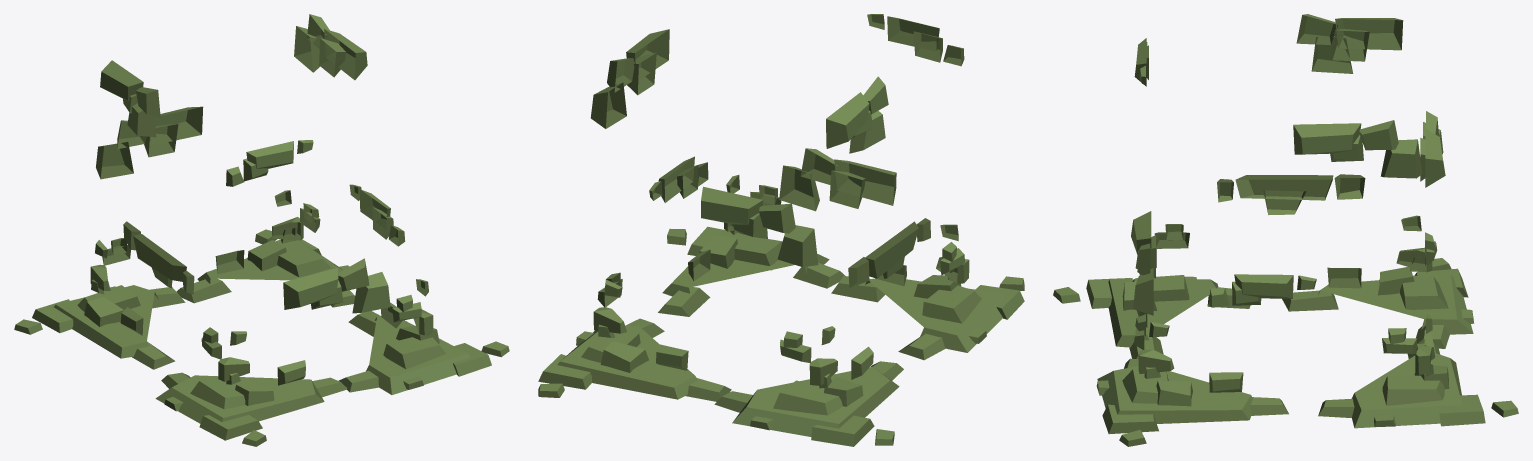
File: SA_Bld_WarehouseOld_Growth_01.gltf
3 views of the same model, side by side, from view 1: azimuth 30°, elevation 25°; view 2: azimuth 150°, elevation 25°; view 3: azimuth 270°, elevation 25° (orthographic). The views are drawn at different scales.
Visible parts, largest first — view 1: SA_Bld_WarehouseOld_Growth_01; view 2: SA_Bld_WarehouseOld_Growth_01; view 3: SA_Bld_WarehouseOld_Growth_01.
Boxes of the visible parts, <box> form: SA_Bld_WarehouseOld_Growth_01: <box>14,14,509,446</box>; SA_Bld_WarehouseOld_Growth_01: <box>538,14,1024,446</box>; SA_Bld_WarehouseOld_Growth_01: <box>1053,14,1518,446</box>.
Size of the model in its own units: 19.94 by 14.71 by 21.33.
Materials: 1 (1 with a texture image).
